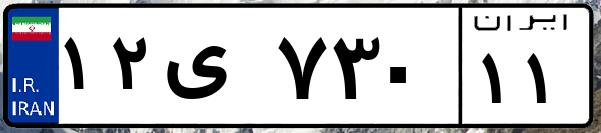0: (385, 28, 445, 110)
1: (57, 26, 110, 100), (475, 38, 525, 113), (525, 38, 570, 115)
2: (110, 28, 158, 98)
3: (330, 28, 385, 110)
7: (270, 28, 330, 110)
ی: (158, 20, 270, 120)
